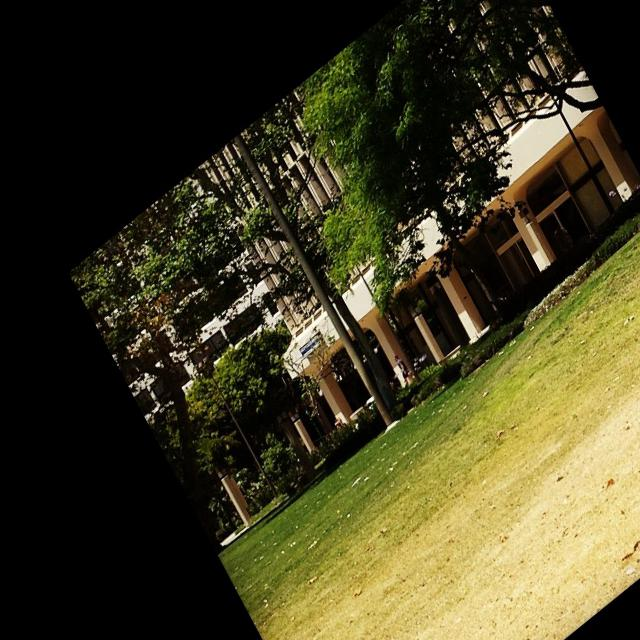patch: (426, 439, 541, 527), (544, 359, 631, 438), (367, 560, 455, 607), (494, 565, 553, 615), (563, 472, 614, 529), (592, 285, 639, 333), (321, 571, 350, 635), (493, 381, 530, 423), (579, 562, 624, 593), (287, 591, 313, 623), (517, 538, 557, 554)
